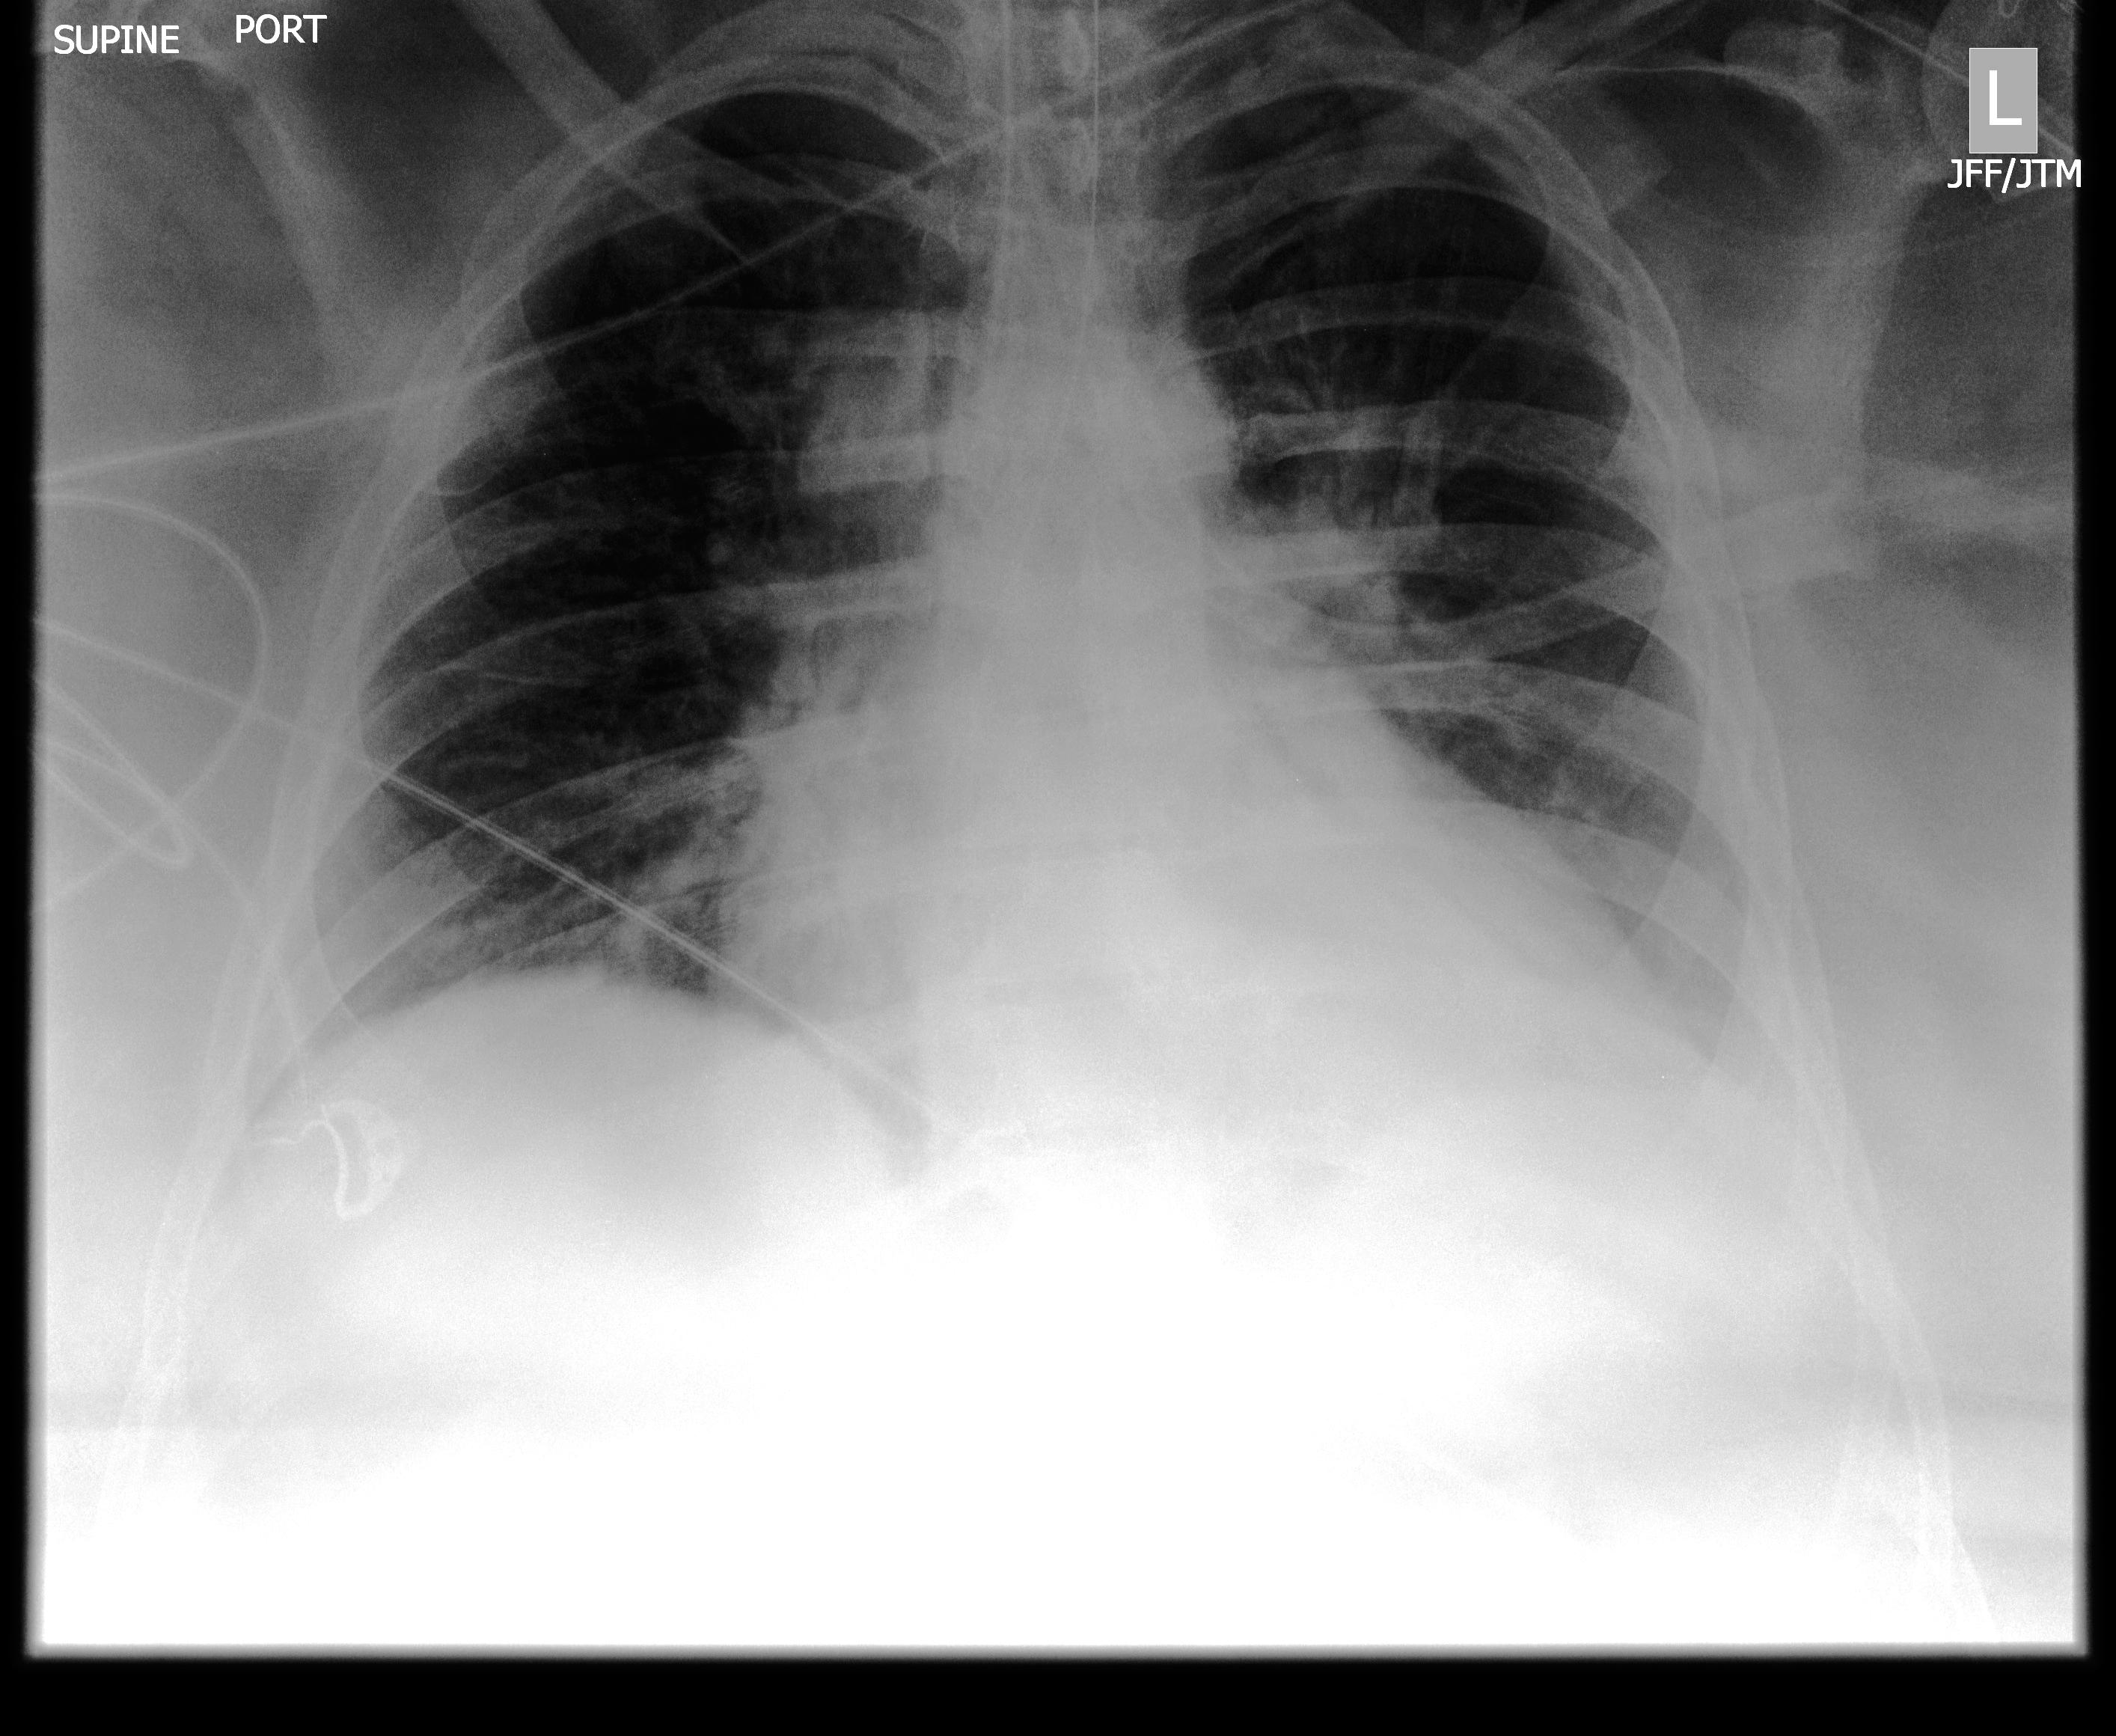Pleural Effusion: (88, 938, 580, 1297), (1533, 852, 1866, 1351)
